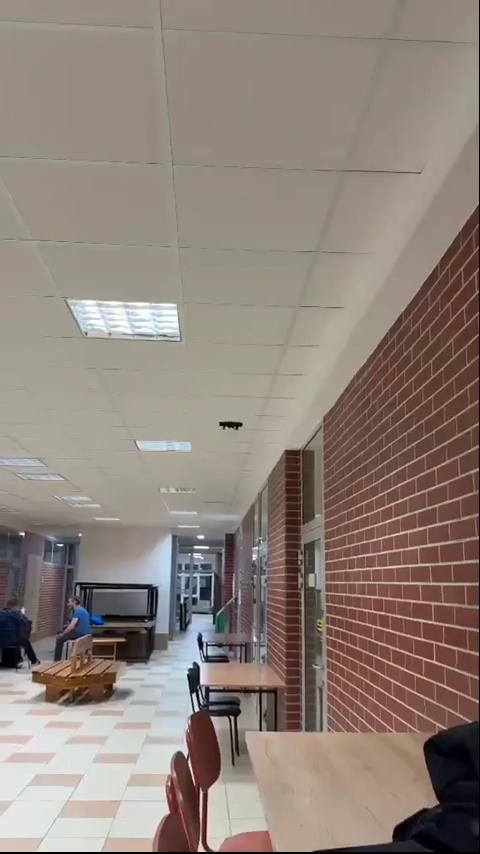drone: (219, 419, 243, 433)
no vest: (2, 587, 40, 672), (55, 593, 92, 655)
